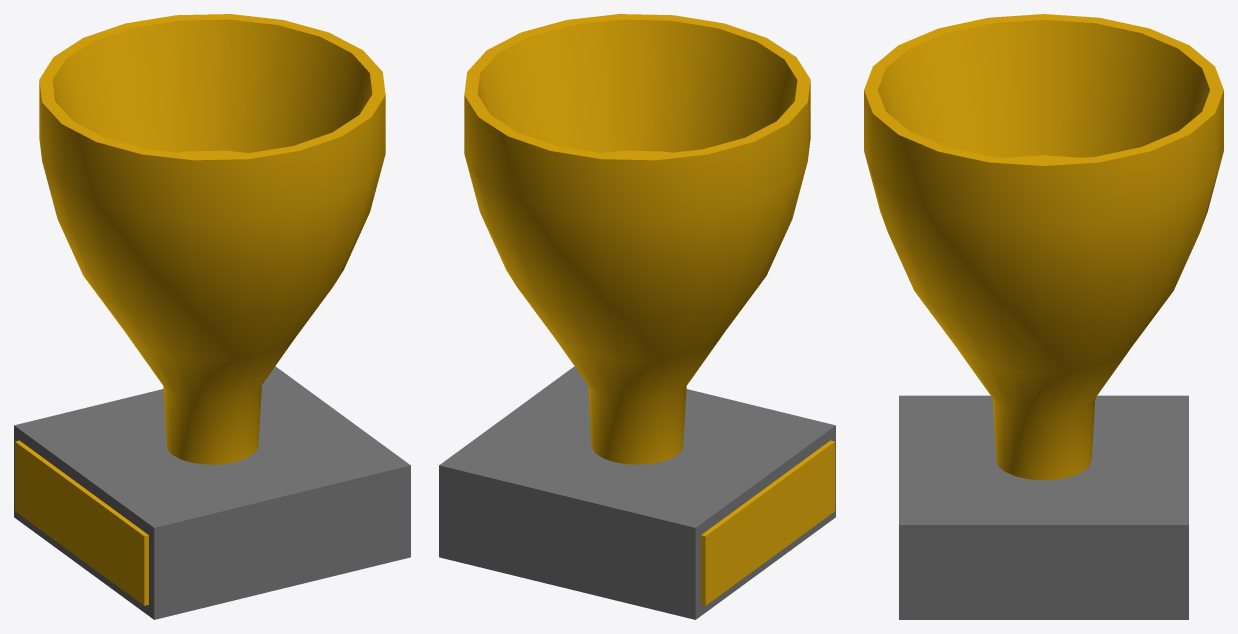
File: trophyBronze.fbx
3 renders of one model, left to right at view 1: azimuth 30°, elevation 25°; view 2: azimuth 150°, elevation 25°; view 3: azimuth 270°, elevation 25°, orthographic. The views are drawn at different scales.
Visible parts, largest first — view 1: pCylinder3, pCube3; view 2: pCylinder3, pCube3; view 3: pCylinder3, pCube3.
Boxes of the visible parts, x1=… form: pCylinder3: x1=39, y1=14, x2=385, y2=464; pCube3: x1=14, y1=366, x2=410, y2=619; pCylinder3: x1=464, y1=14, x2=810, y2=464; pCube3: x1=439, y1=366, x2=835, y2=619; pCylinder3: x1=864, y1=14, x2=1223, y2=480; pCube3: x1=899, y1=395, x2=1188, y2=619.
Bounding box in the file's own units: 8.11 × 11.57 × 8.11.
